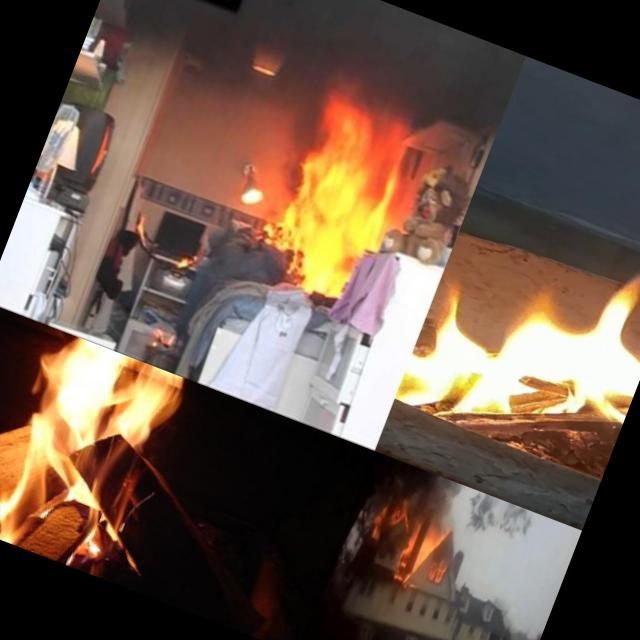fire: (390, 172, 640, 490), (0, 325, 216, 593), (246, 71, 431, 314), (358, 488, 466, 596)
